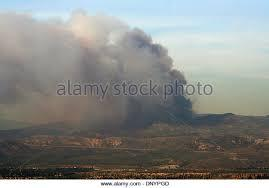smoke: (1, 9, 193, 133)
